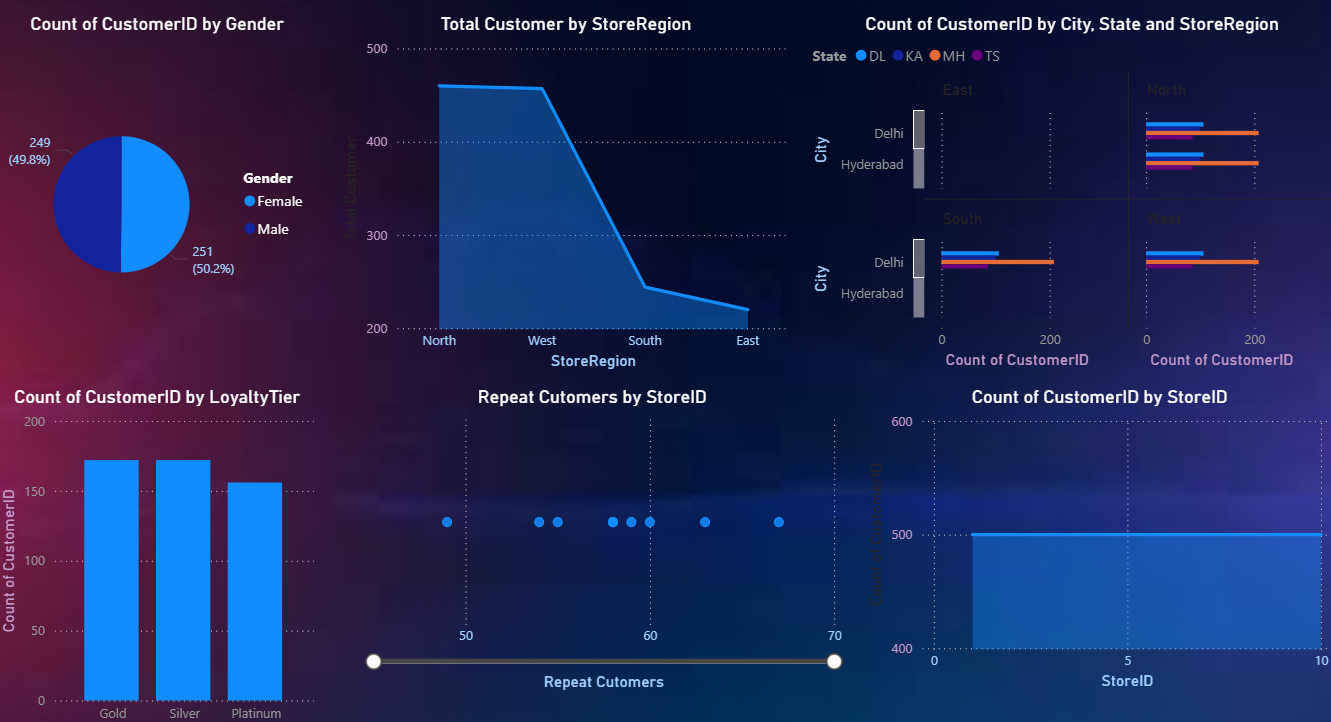

Layout of this report page (visuals, bound fields, positions):
{"tool":"powerbi","page":{"name":"Customer Insights","canvas":[1280,720],"ordinal":4},"visuals":[{"type":"pieChart","fields":{"Category":["Customer_Dim.Gender"],"Y":["CountNonNull(Customer_Dim.CustomerID)"]},"box":[17.4,23.3,302.3,337.2],"z":0},{"type":"columnChart","fields":{"Category":["Customer_Dim.LoyaltyTier"],"Y":["CountNonNull(Customer_Dim.CustomerID)"]},"box":[17,370,302,337],"z":1},{"type":"areaChart","fields":{"Category":["Store_Dim.StoreRegion"],"Y":["Measures (2).Total Customer"]},"box":[336,23.3,425.6,337.2],"z":2},{"type":"scatterChart","fields":{"Category":["Sales_Fact.StoreID"],"X":["Measures (2).Repeat Cutomers"]},"box":[336,369.8,474.4,288.4],"z":3},{"type":"clusteredBarChart","fields":{"Category":["Store_Dim.City"],"Rows":["Store_Dim.StoreRegion"],"Series":["Customer_Dim.State"],"Y":["CountNonNull(Customer_Dim.CustomerID)"]},"box":[773.3,23.3,493,337.2],"z":4},{"type":"areaChart","fields":{"Category":["Inventory_Fact.StoreID"],"Y":["CountNonNull(Customer_Dim.CustomerID)"]},"box":[824.4,369.8,441.9,288.4],"z":5}]}

Visuals, with their boxes on the page's 1280x720 design canvas (x1, y1, x2, y2). These are canvas units, not pixel positions in the 1331x722 screenshot, which may show the page scaled, cropped or inside an application window:
pieChart - Customer_Dim.Gender x CountNonNull(Customer_Dim.CustomerID): detection(17, 23, 320, 360)
columnChart - Customer_Dim.LoyaltyTier x CountNonNull(Customer_Dim.CustomerID): detection(17, 370, 319, 707)
areaChart - Store_Dim.StoreRegion x Measures (2).Total Customer: detection(336, 23, 762, 360)
scatterChart - Sales_Fact.StoreID x Measures (2).Repeat Cutomers: detection(336, 370, 810, 658)
clusteredBarChart - Store_Dim.City x Store_Dim.StoreRegion: detection(773, 23, 1266, 360)
areaChart - Inventory_Fact.StoreID x CountNonNull(Customer_Dim.CustomerID): detection(824, 370, 1266, 658)
